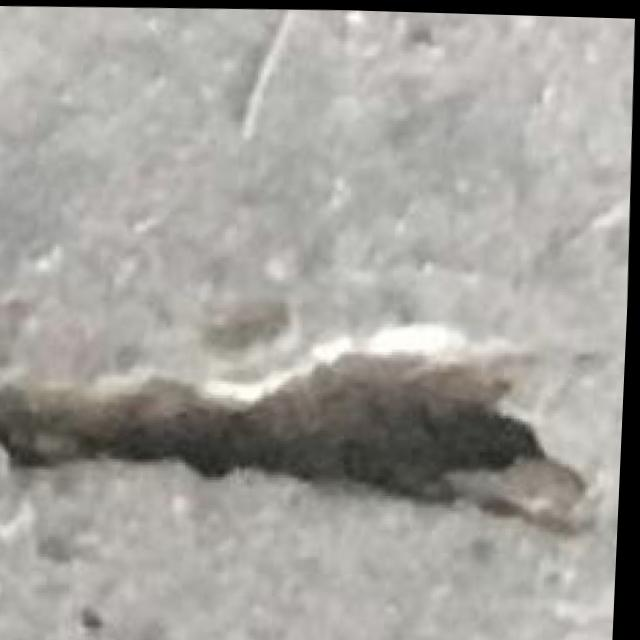Crack: (0, 299, 617, 593)
